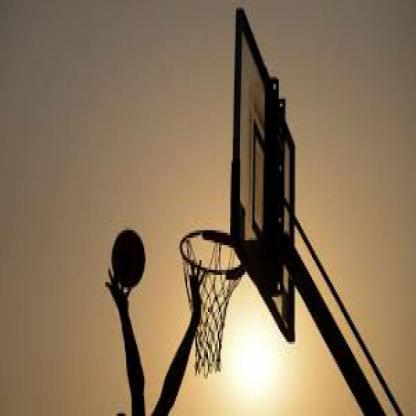basketball: (112, 228, 146, 292)
rim: (176, 228, 246, 282)
